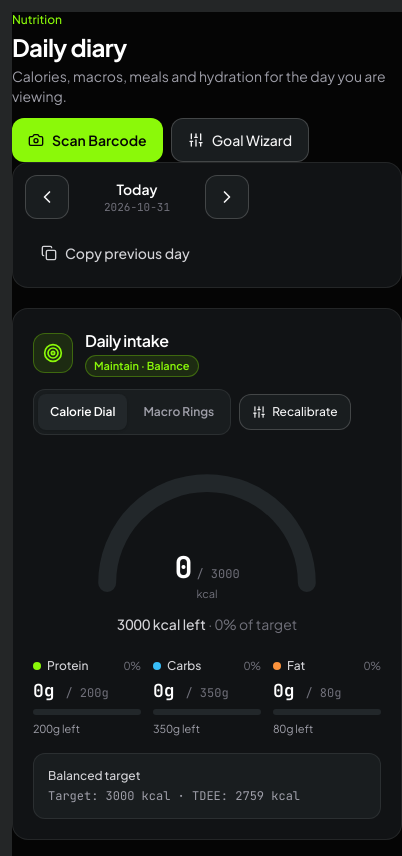
NutritionView: targets shown for the viewed day › a past day with no stored log shows current targets as a fallback and does not claim they were historical
Click the button titled "Previous Day": (47, 197) x1=25 y1=175 x2=69 y2=219
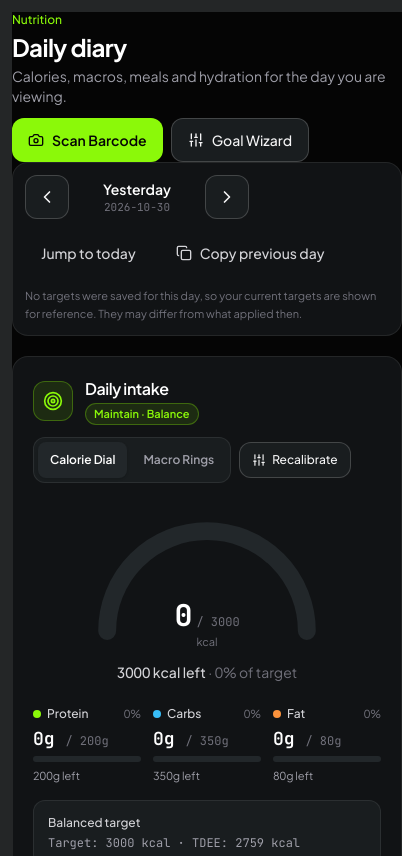
Expected: the text "/ 3000" is shown, x1=196 y1=614 x2=240 y2=630
Expected: the text with test id "target-source-caption" shows "No targets were saved for this day", x1=25 y1=289 x2=376 y2=320
